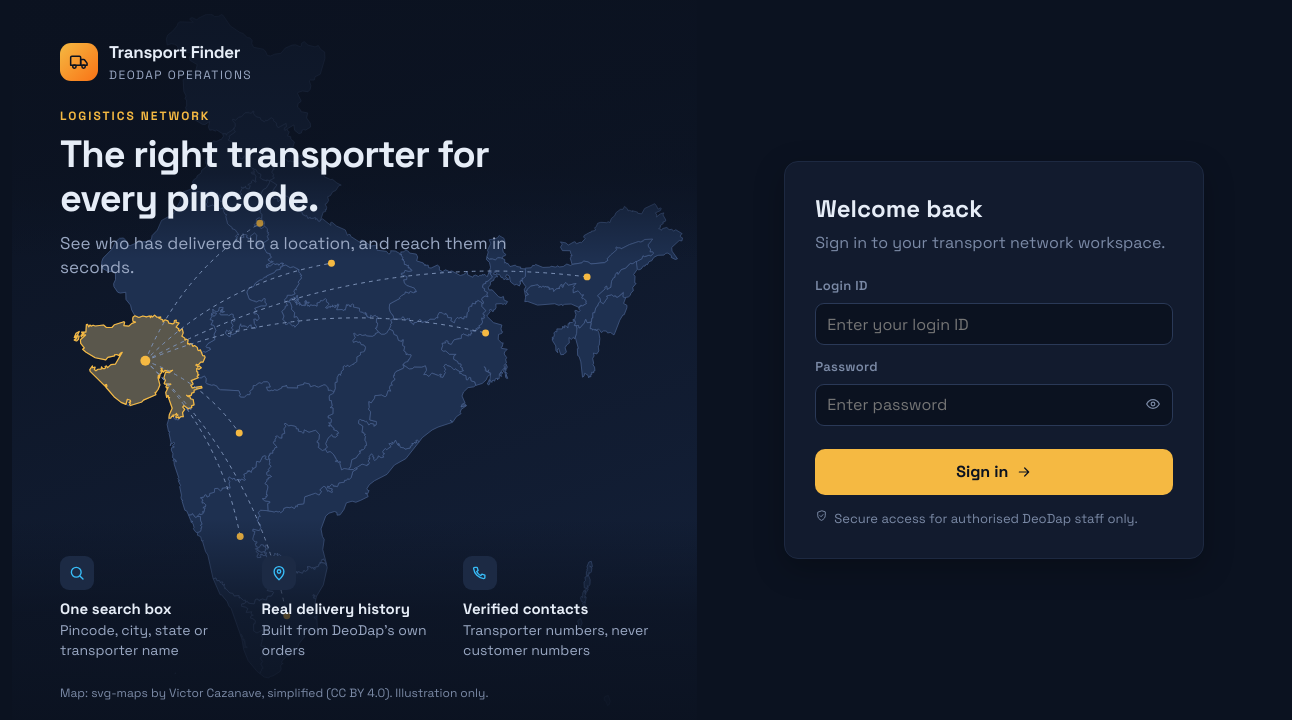
post-login landing page › Admin login opens the Search page (not Manage Transporters, not a dashboard)
Type "Admin_deodap@123" into the field with placeholder "Enter your login ID" at (994, 324), box [815,303,1173,345]
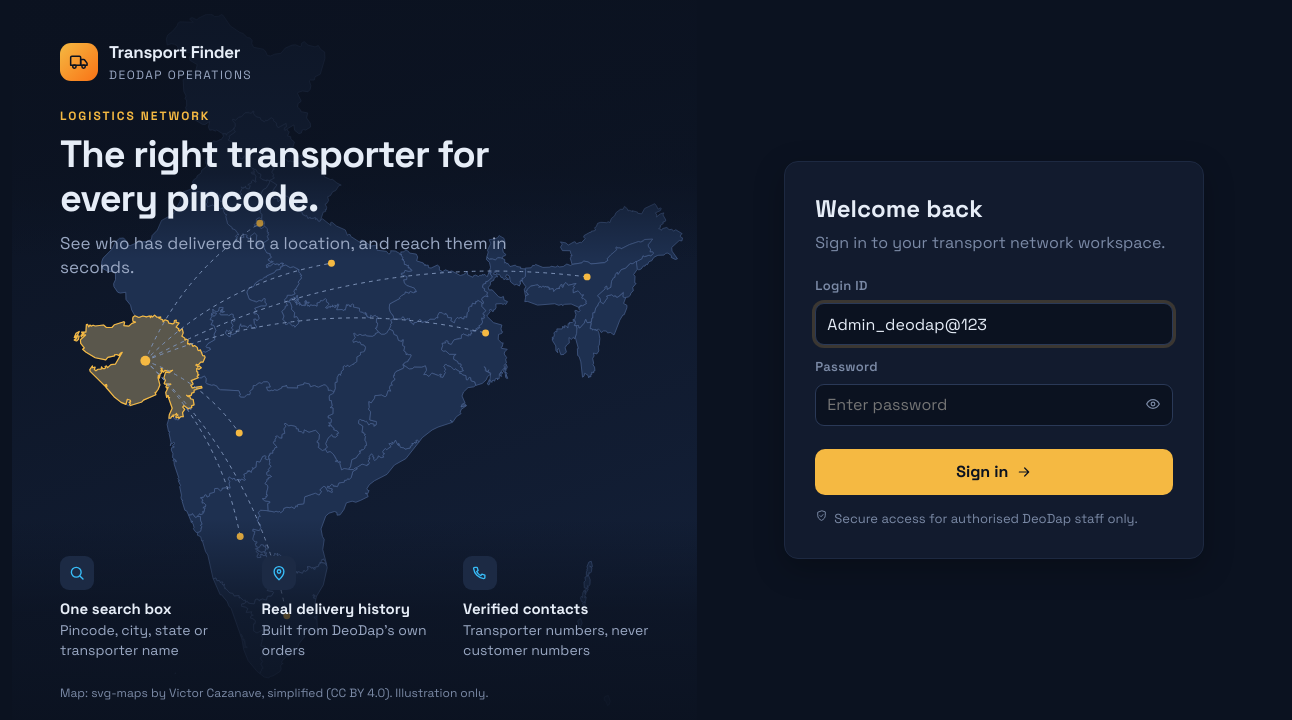
Type "Admin@123" into the password field with placeholder "Enter password" at (994, 405), box [815,384,1173,426]
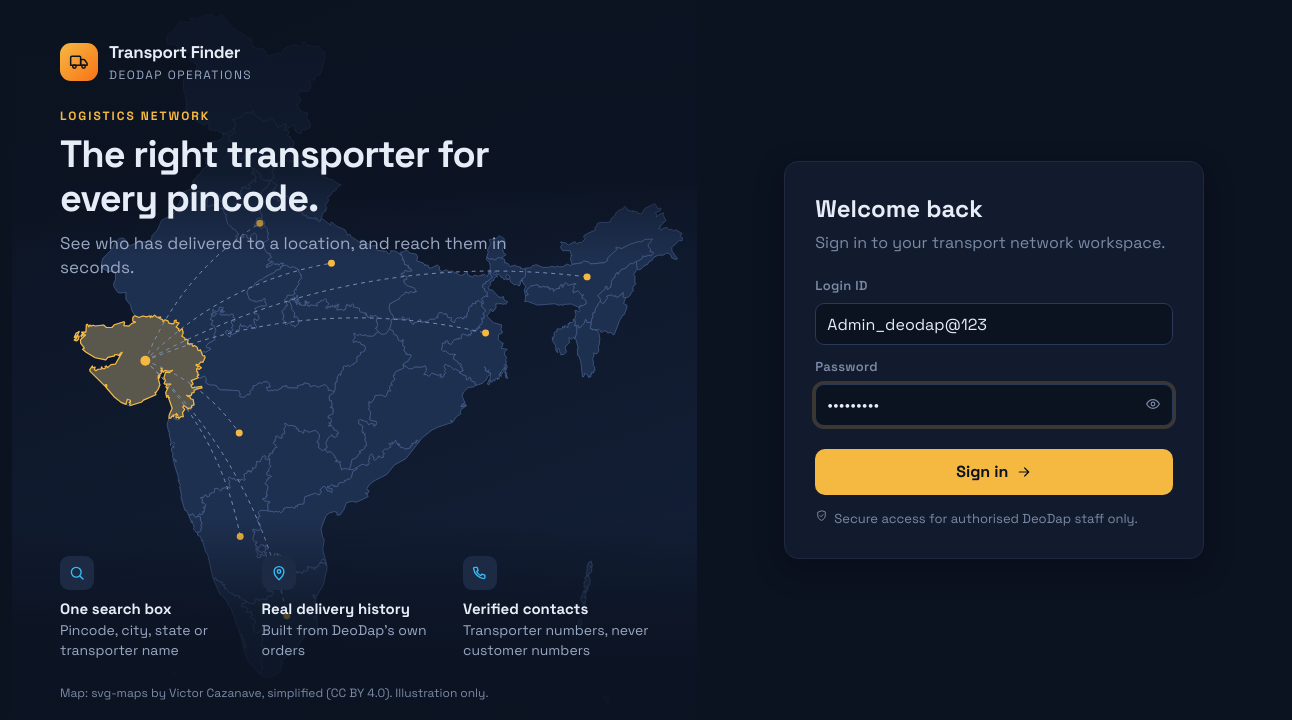
Click the button "Sign in" at (994, 472), box [815,449,1173,495]
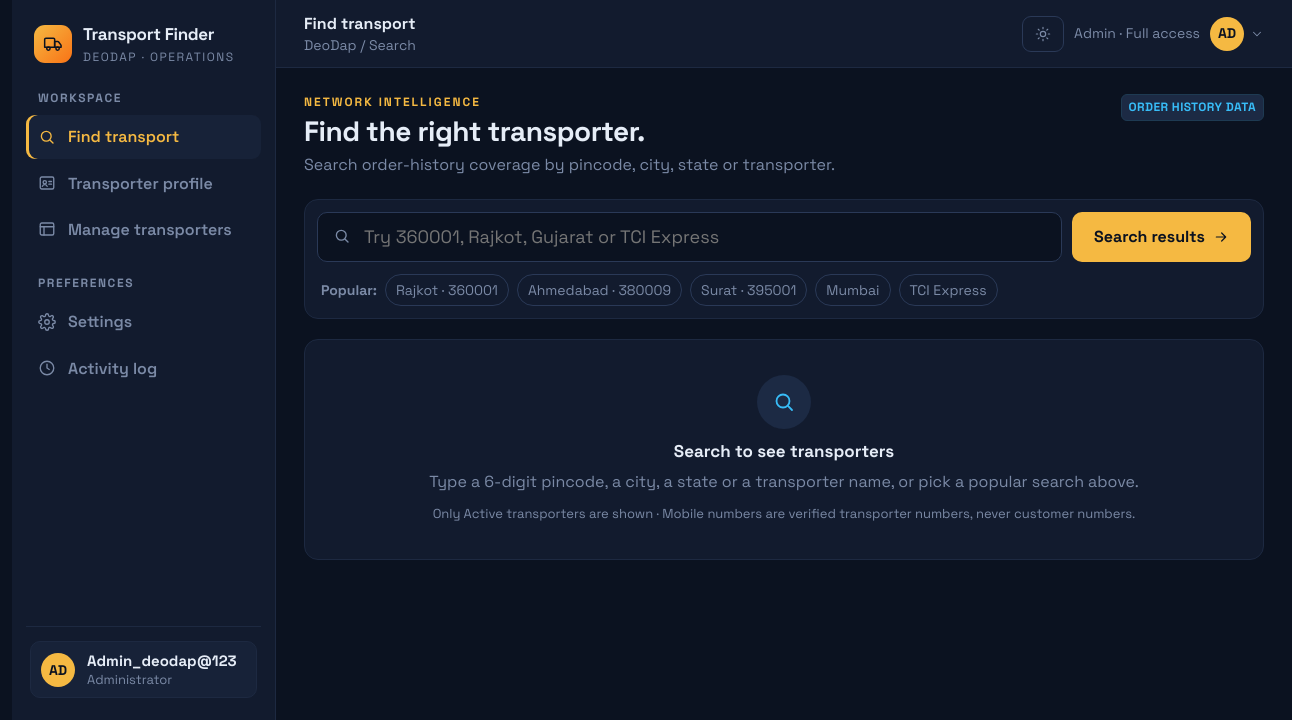
Check: the heading "Find the right transporter." is shown, box [304,113,645,149]
Check: the heading "Welcome back" is gone
